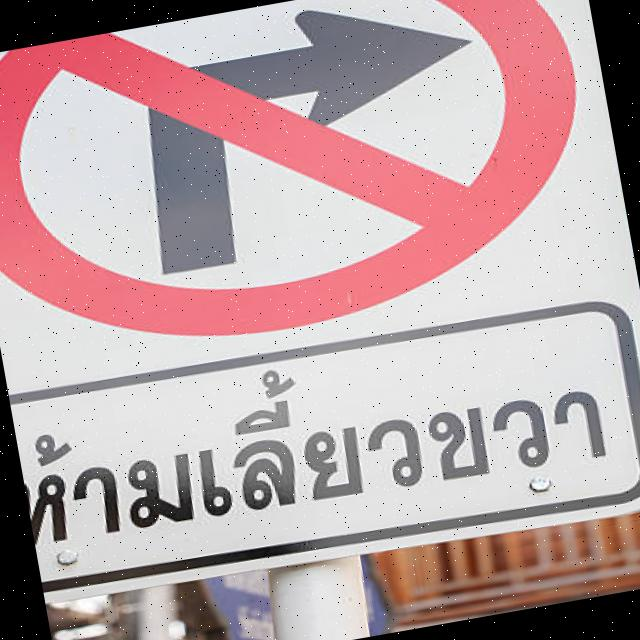do_not_turn_right: (0, 0, 615, 385)
